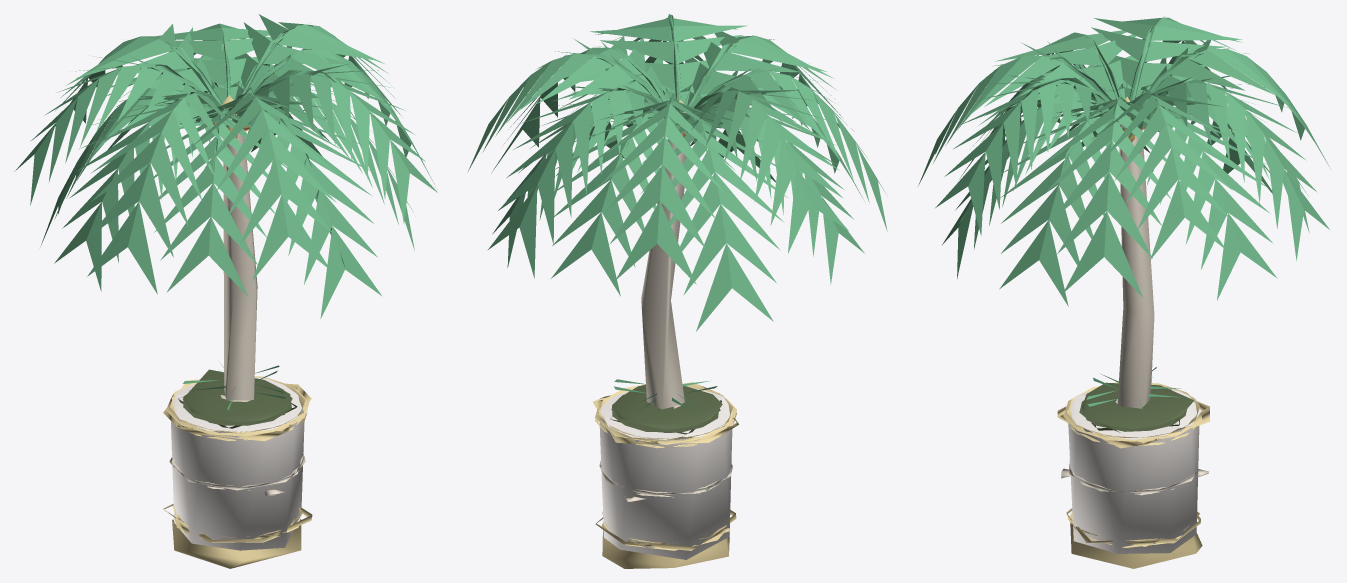
Rendered from lod_palm_planter_lux.glb.
3 views of the same model, side by side, from view 1: azimuth 30°, elevation 25°; view 2: azimuth 150°, elevation 25°; view 3: azimuth 270°, elevation 25° (orthographic). The views are drawn at different scales.
Visible parts, largest first — view 1: palm_planter_lux; view 2: palm_planter_lux; view 3: palm_planter_lux.
Boxes of the visible parts, box(x1,y1,x2,y2) form: palm_planter_lux: box(14, 14, 437, 568); palm_planter_lux: box(467, 14, 887, 568); palm_planter_lux: box(918, 16, 1330, 568).
Size of the model in its own units: 3.23 by 4.11 by 3.21.
